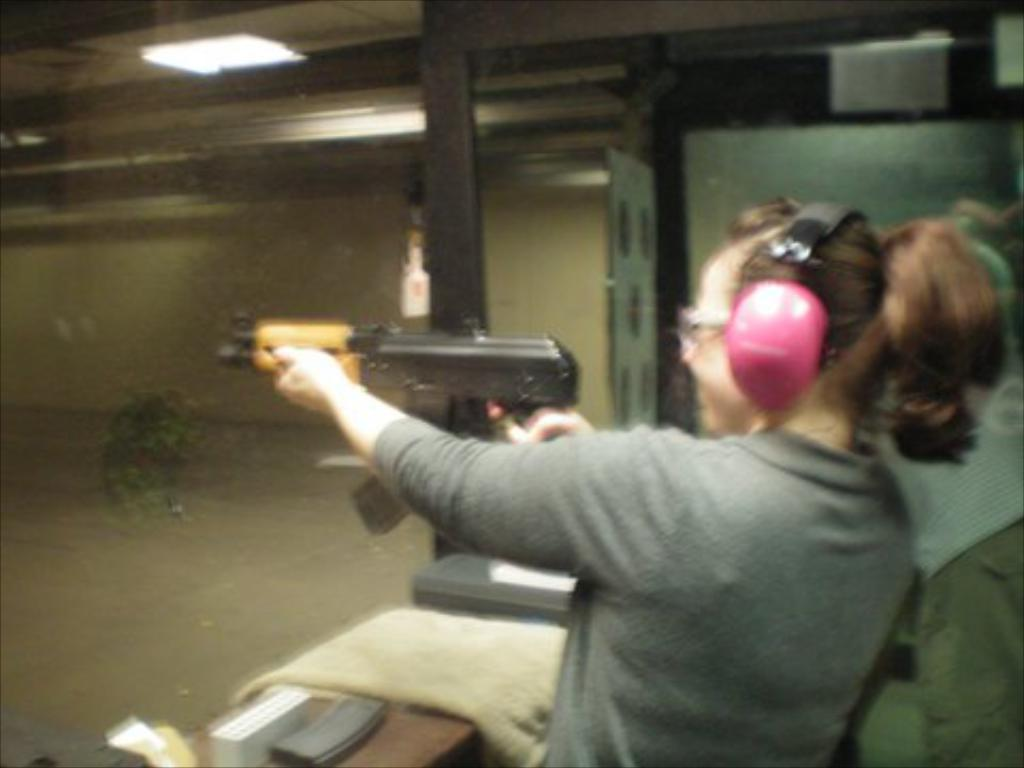Human_hand: (266, 346, 349, 413), (488, 404, 593, 444)
